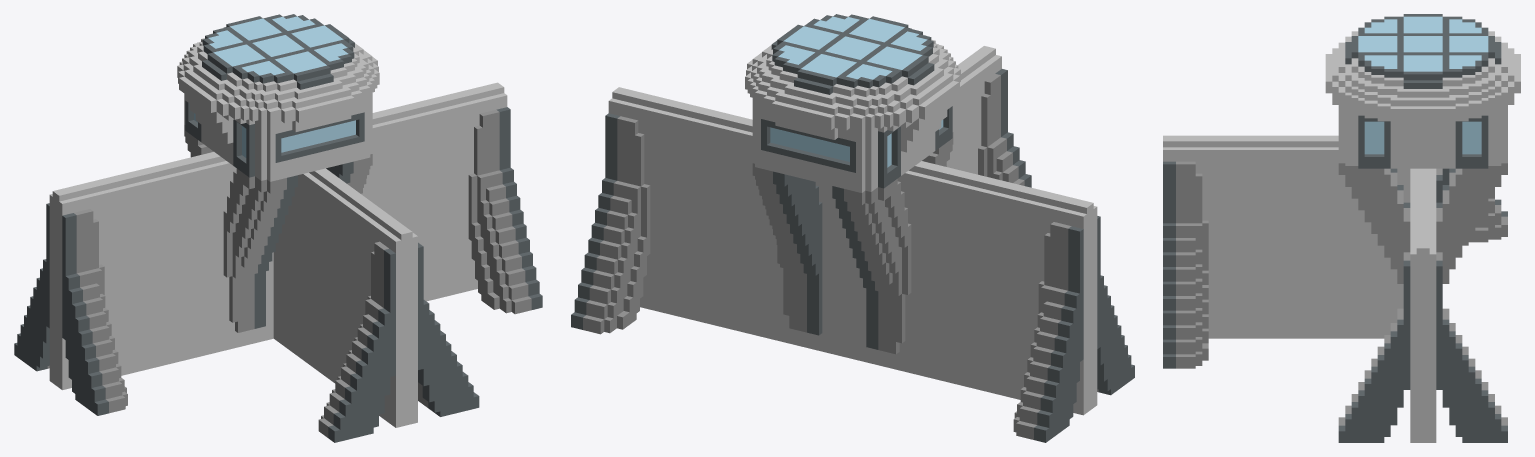
The model's file is wall4_t.obj.
The picture shows the model from 3 angles, left to right: view 1: azimuth 30°, elevation 25°; view 2: azimuth 150°, elevation 25°; view 3: azimuth 270°, elevation 25°; orthographic projection. The views are drawn at different scales.
Size of the model in its own units: 8 by 4.9 by 5.5.
Materials: 1 (1 with a texture image).
